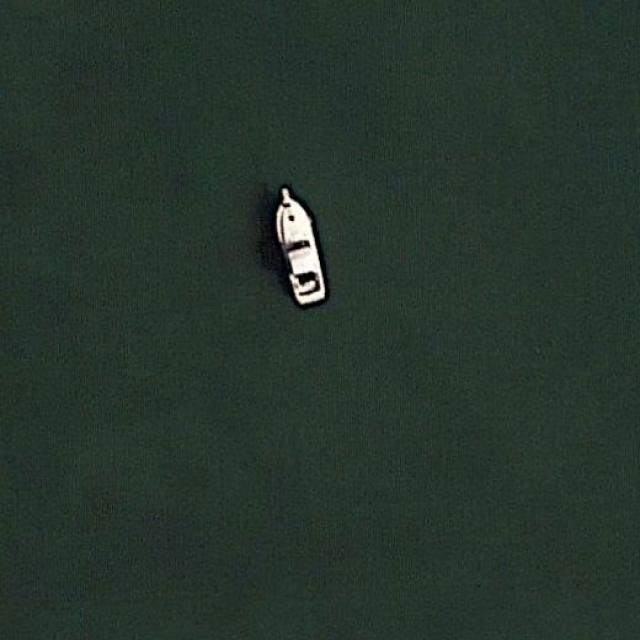boat: (262, 179, 329, 309)
